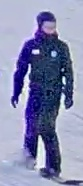snowboarder: (10, 12, 83, 184)
